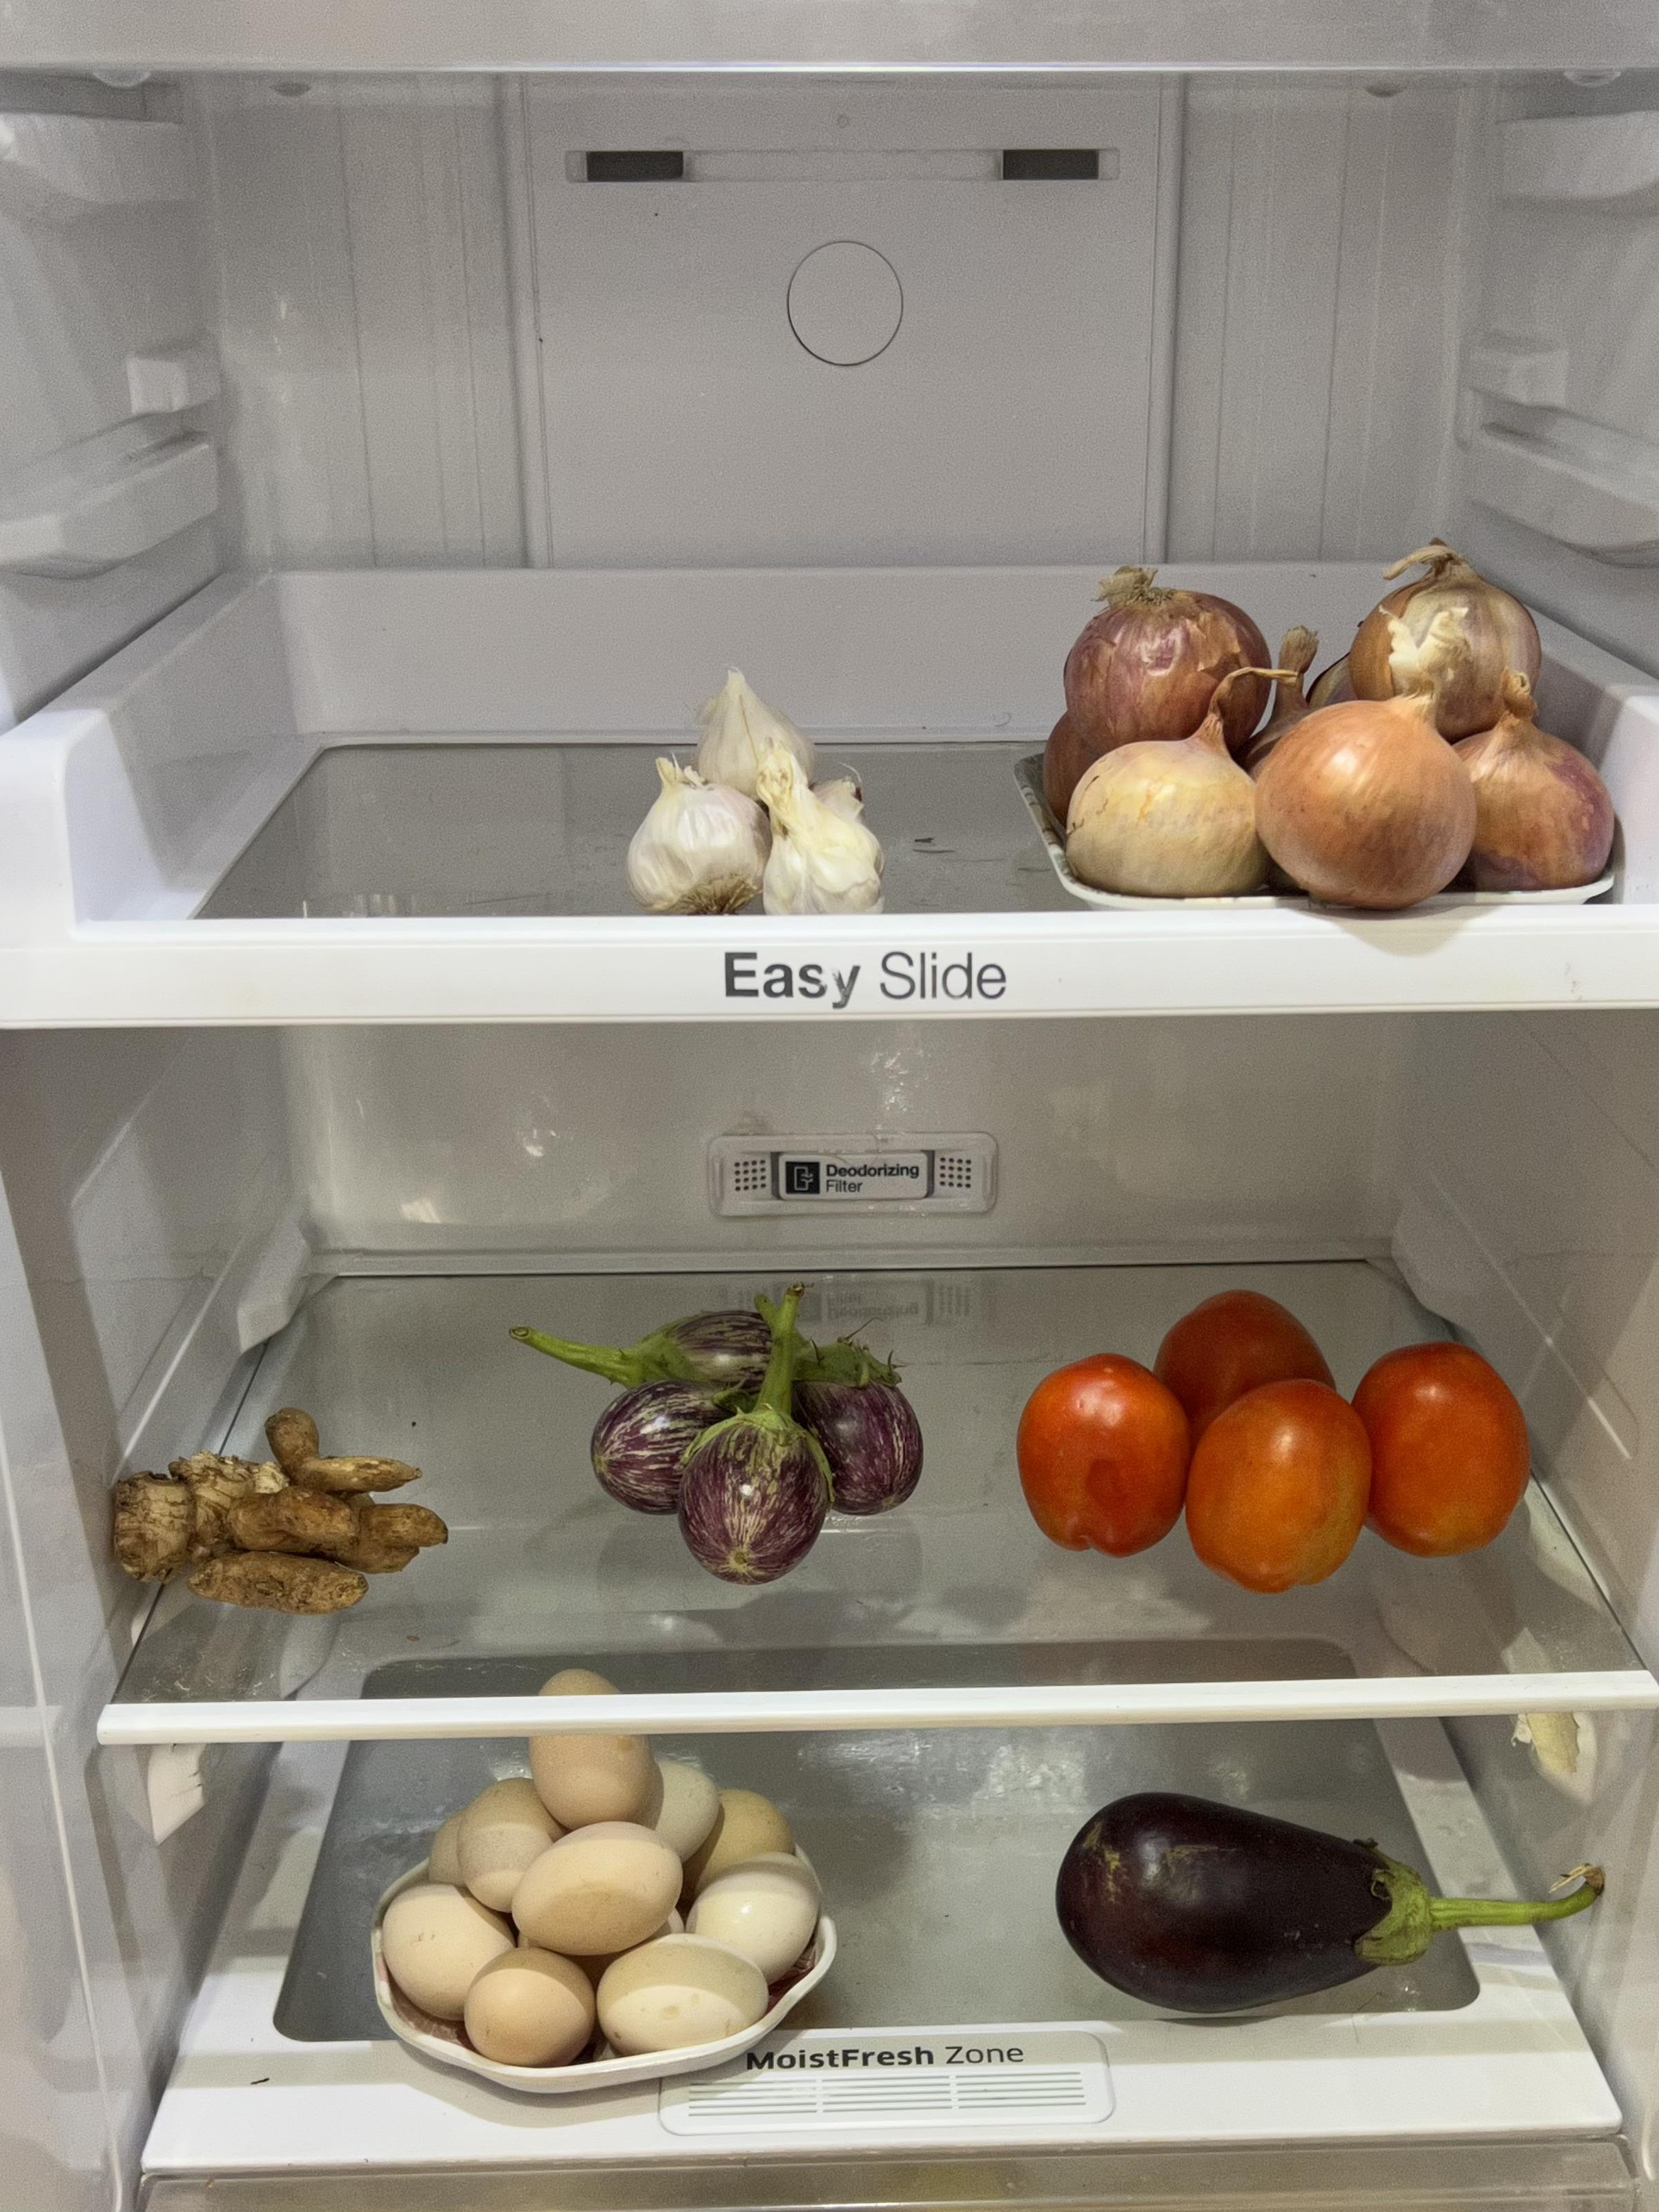bringal: (1051, 1787, 1553, 2019), (589, 1296, 934, 1585)
egg: (369, 1733, 826, 2064)
garlic: (631, 669, 889, 928)
ginger: (98, 1395, 450, 1622)
onion: (1030, 559, 1617, 906)
tomato: (1016, 1282, 1530, 1594)
